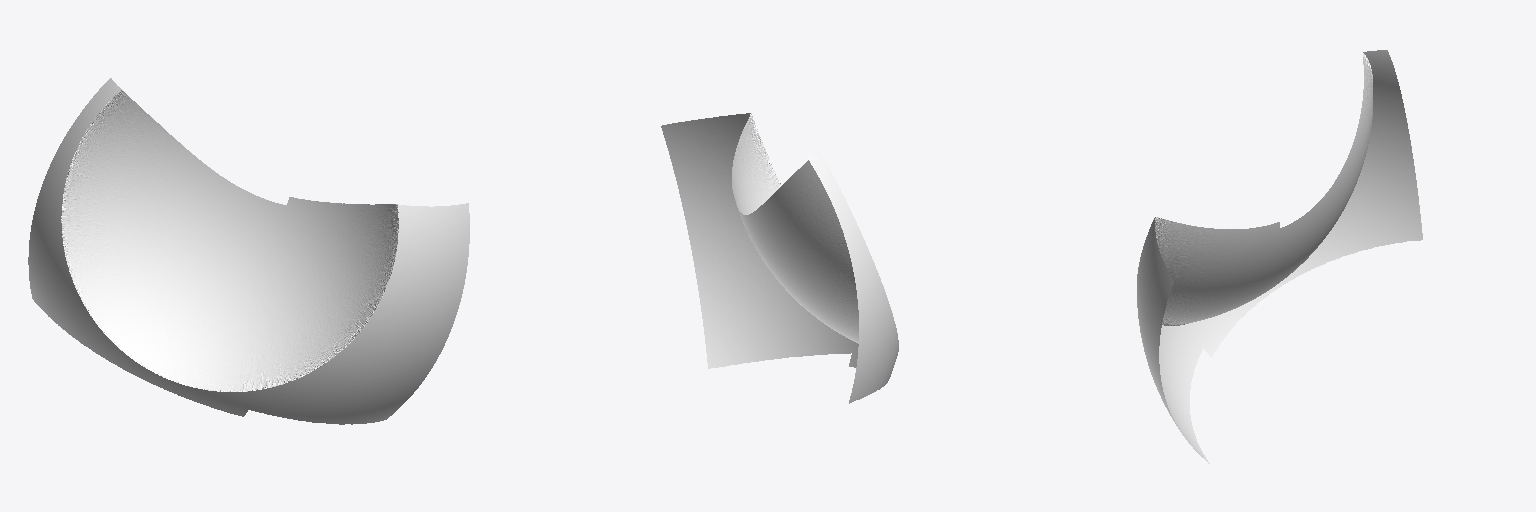
3 views of the same model, side by side, from view 1: azimuth 30°, elevation 25°; view 2: azimuth 150°, elevation 25°; view 3: azimuth 270°, elevation 25° (orthographic).
Parts seen in each view (by area): view 1: P00_102Bb; view 2: P00_102Bb; view 3: P00_102Bb.
Part boxes in pixels (x1,y1,x2,y2): P00_102Bb: (28, 78, 469, 424); P00_102Bb: (661, 113, 898, 403); P00_102Bb: (1137, 50, 1422, 463).
Bounding box in the file's own units: 10173 × 9818 × 7883.